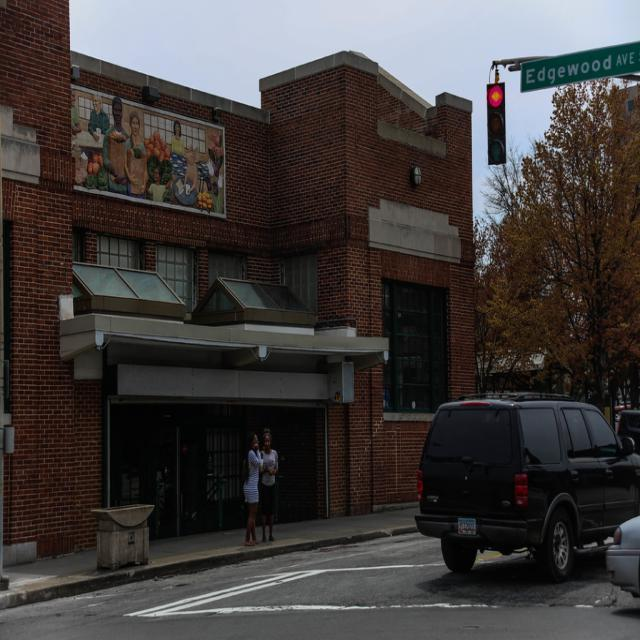traffic light: (487, 83, 506, 163)
